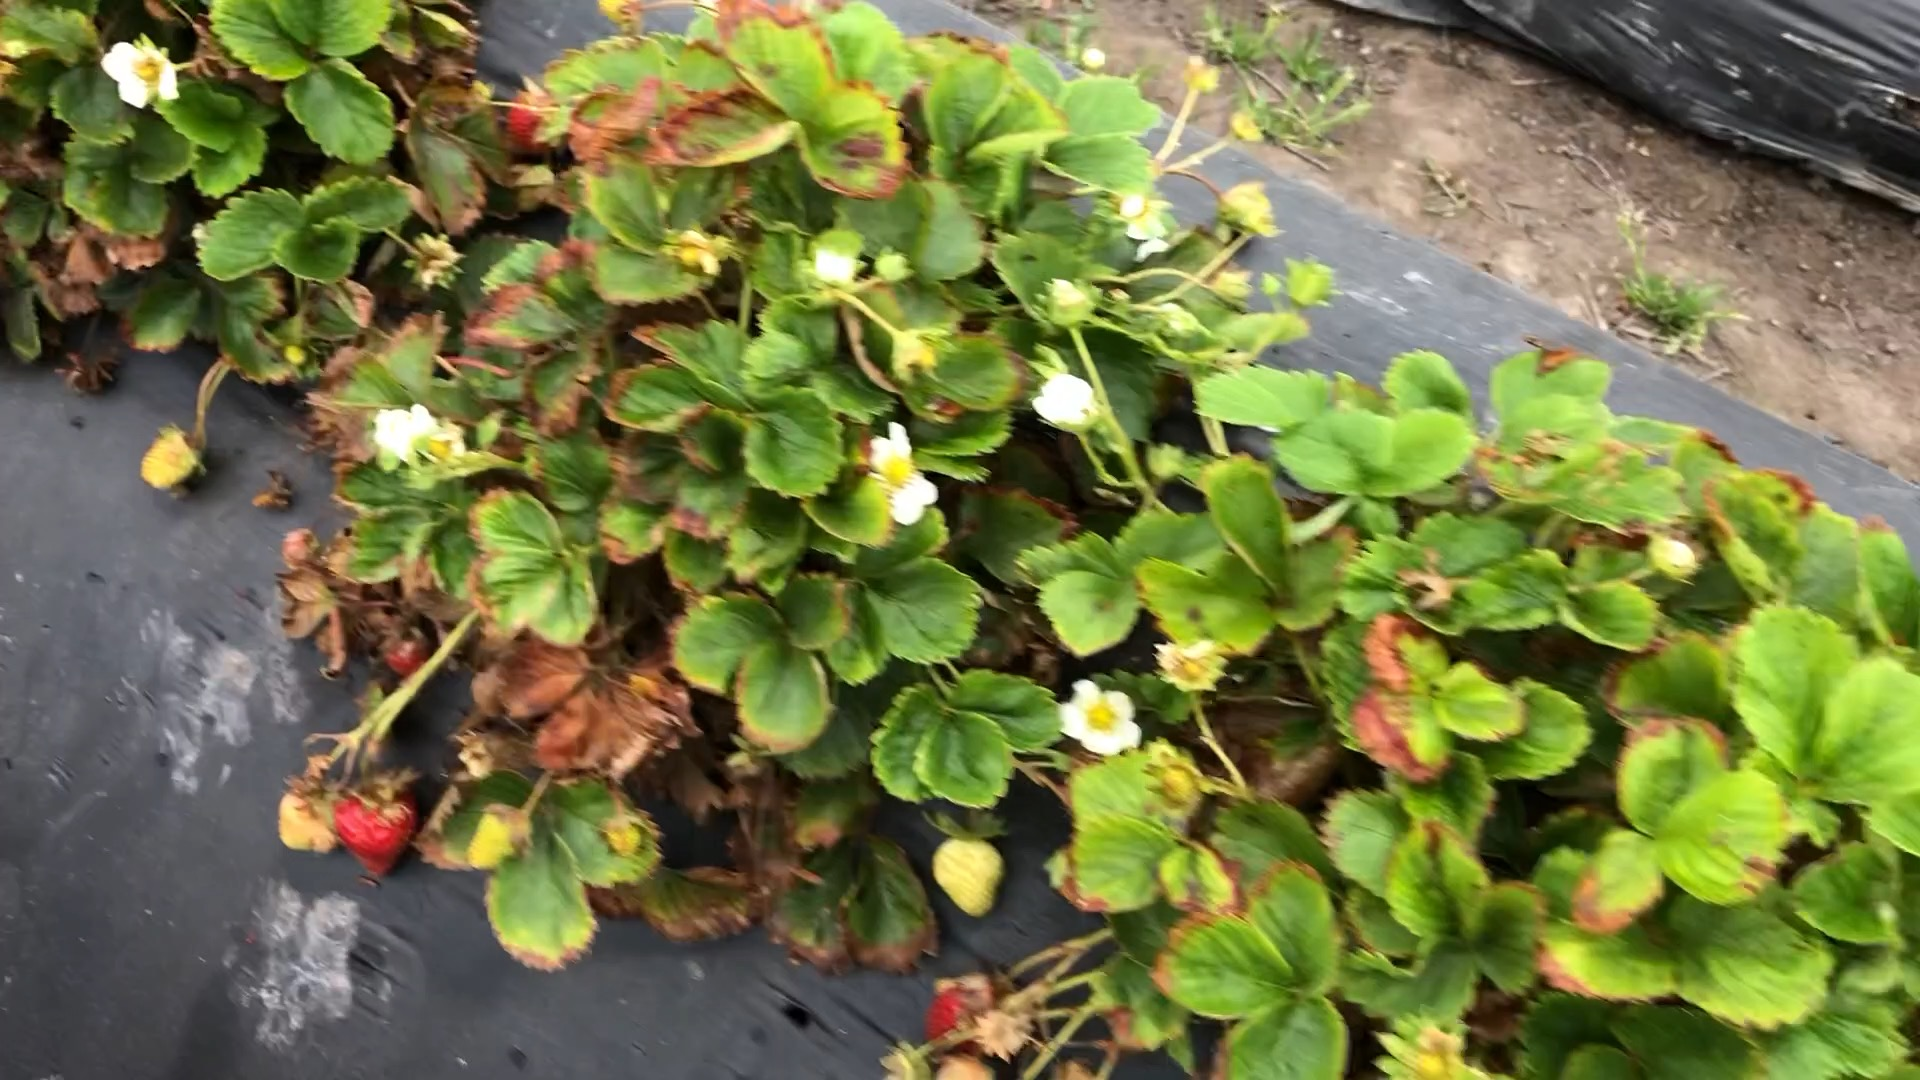ripe_strawberry: (335, 775, 421, 884), (920, 973, 1009, 1062), (502, 90, 554, 156), (382, 633, 433, 676)
unripe_strawberry: (926, 822, 1014, 922), (276, 777, 339, 855), (138, 426, 203, 497)
